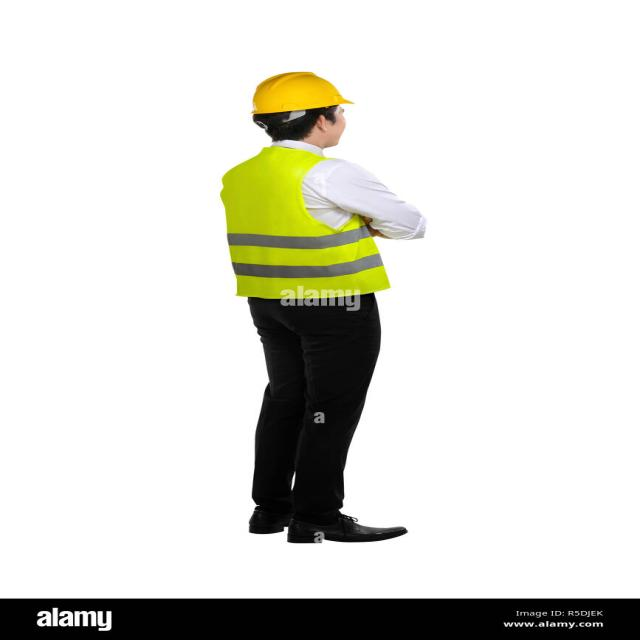helmet: (242, 61, 365, 139)
vest: (201, 134, 401, 300)
